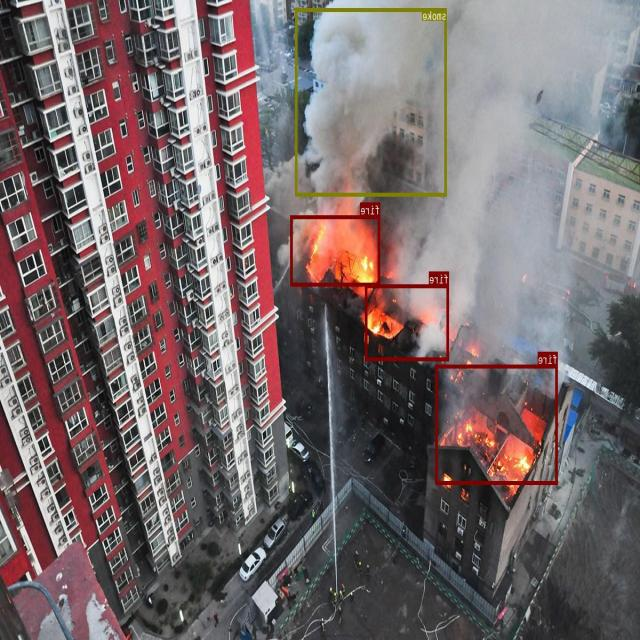fire: (436, 364, 558, 484), (366, 284, 450, 361), (291, 215, 381, 285)
smoke: (296, 8, 447, 196)
